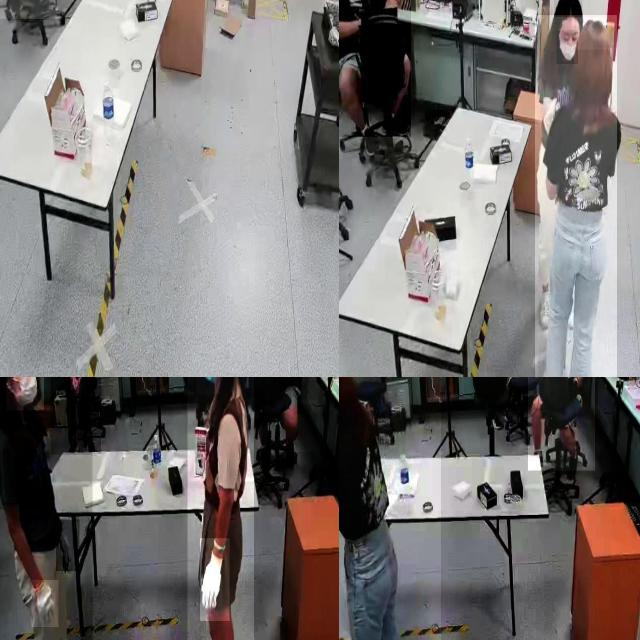face_mask: (6, 377, 43, 410), (556, 30, 578, 64), (196, 377, 222, 394)
hand_glove: (200, 538, 230, 622), (31, 580, 59, 628), (56, 520, 80, 572)
hand_noglove: (71, 377, 82, 395), (74, 377, 82, 392), (70, 377, 78, 391)
head_nohelmet: (576, 18, 610, 50), (554, 0, 583, 17)
person: (534, 15, 617, 377), (339, 377, 441, 640), (0, 377, 93, 640), (187, 377, 254, 640), (339, 0, 411, 137), (528, 377, 595, 471), (265, 377, 320, 453), (50, 377, 101, 454)
shoes: (356, 115, 380, 161), (536, 284, 556, 329), (3, 0, 22, 16), (536, 364, 557, 377)
